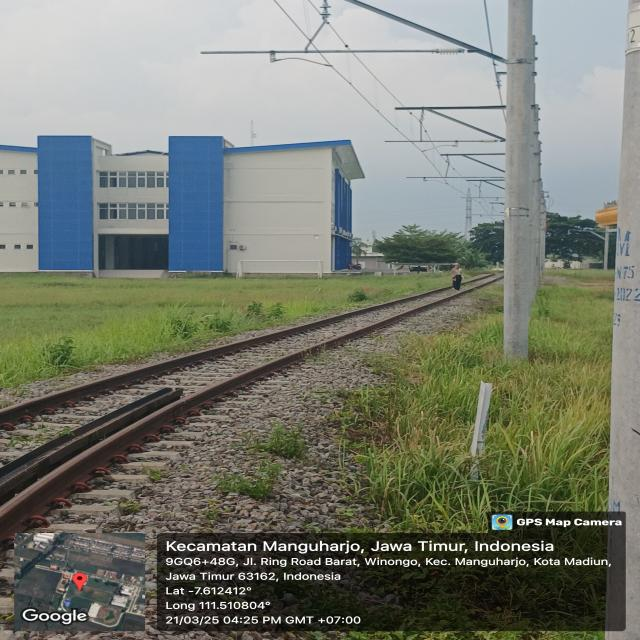rail-detection: (0, 280, 494, 540), (0, 292, 432, 421), (0, 387, 183, 503), (250, 310, 415, 380)
